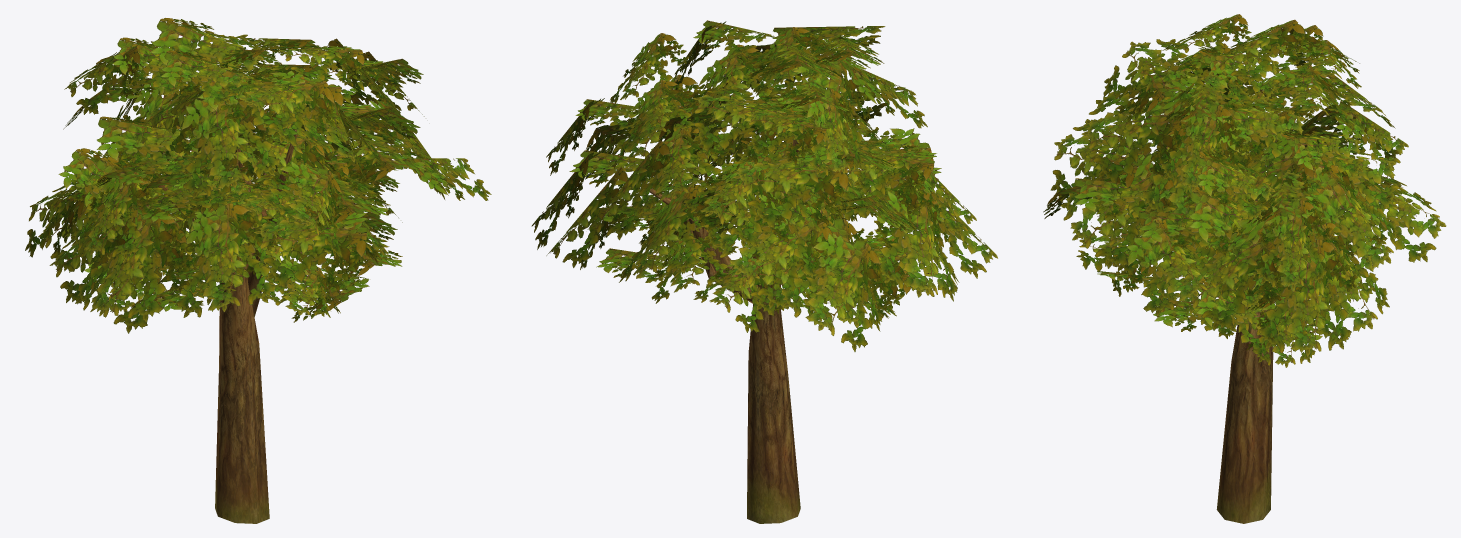
File: obj_macoprtr15.glb
3 renders of one model, left to right at view 1: azimuth 30°, elevation 25°; view 2: azimuth 150°, elevation 25°; view 3: azimuth 270°, elevation 25°, orthographic. The views are drawn at different scales.
Visible parts, largest first — view 1: part_0; view 2: part_0; view 3: part_0.
Part boxes in pixels (<box>): part_0: <box>25,18,491,523</box>; part_0: <box>531,20,997,523</box>; part_0: <box>1043,14,1446,523</box>.
Bounding box in the file's own units: 6.33 × 7.32 × 5.96.
2 materials, 2 textured.
